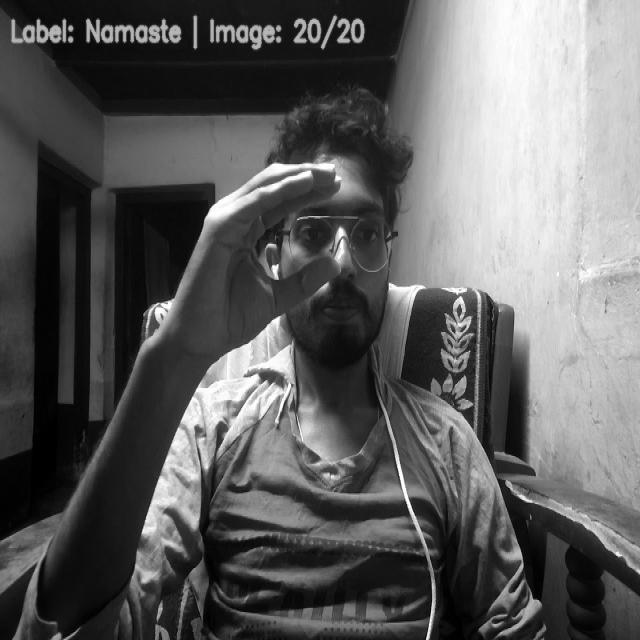No: (171, 157, 342, 356)
